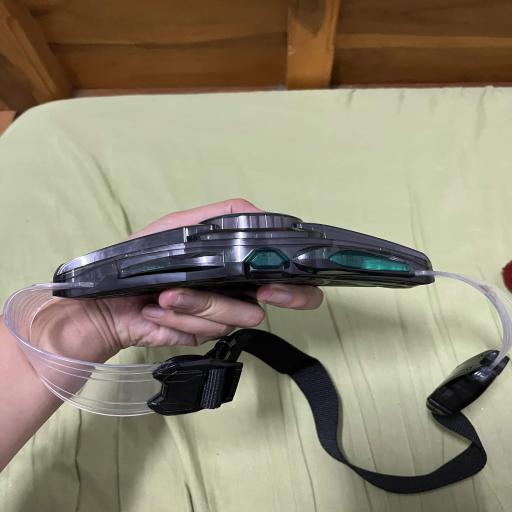zeztzdriver: (3, 212, 512, 494), (53, 212, 433, 300)
